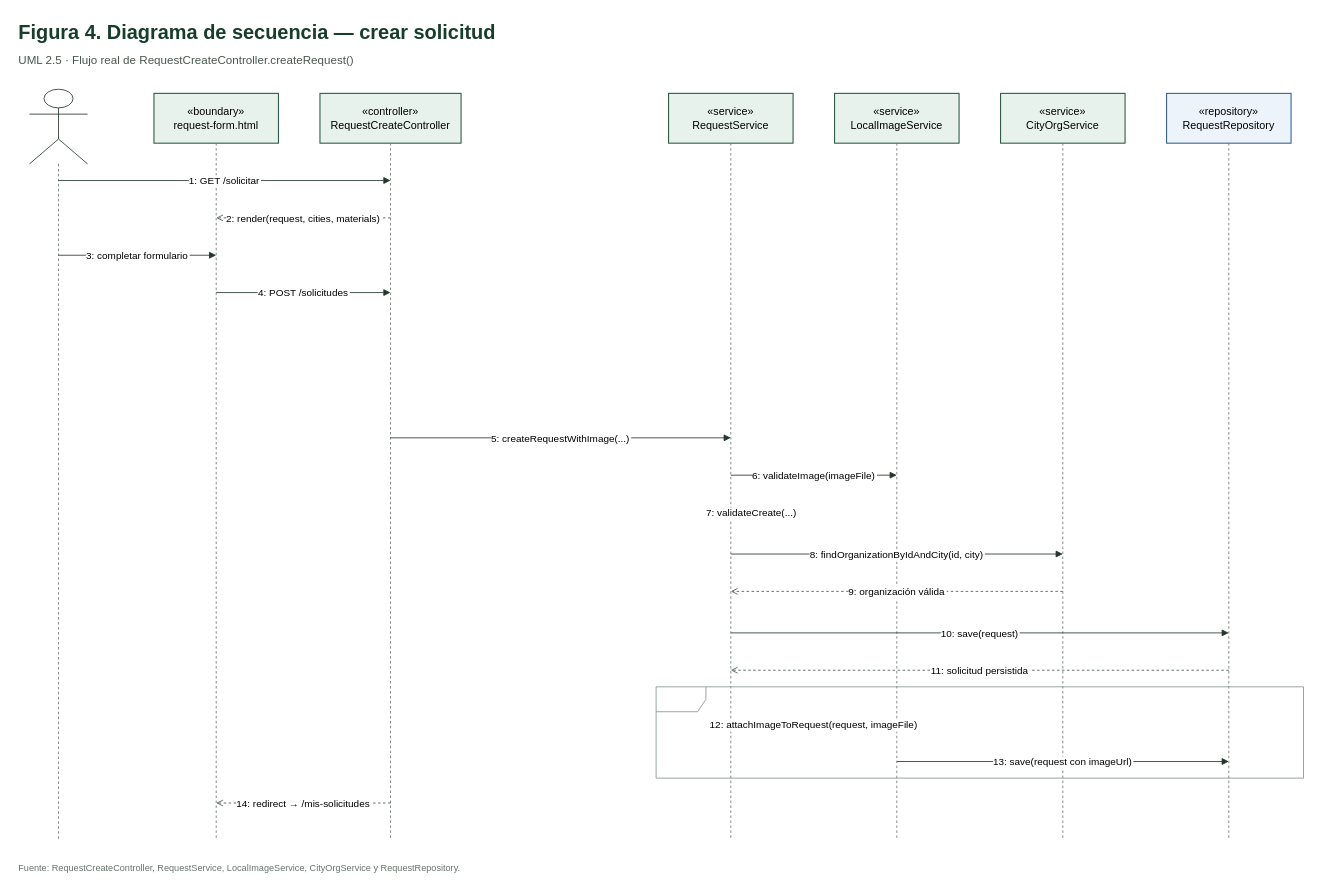
This 1318x891 diagram has some shape labels left out. The centre of each missing label's shape, as x and y in pixels:
opt [imagen adjunta]: (x=979, y=732)
Solicitante Usuario registrado: (x=58, y=126)
